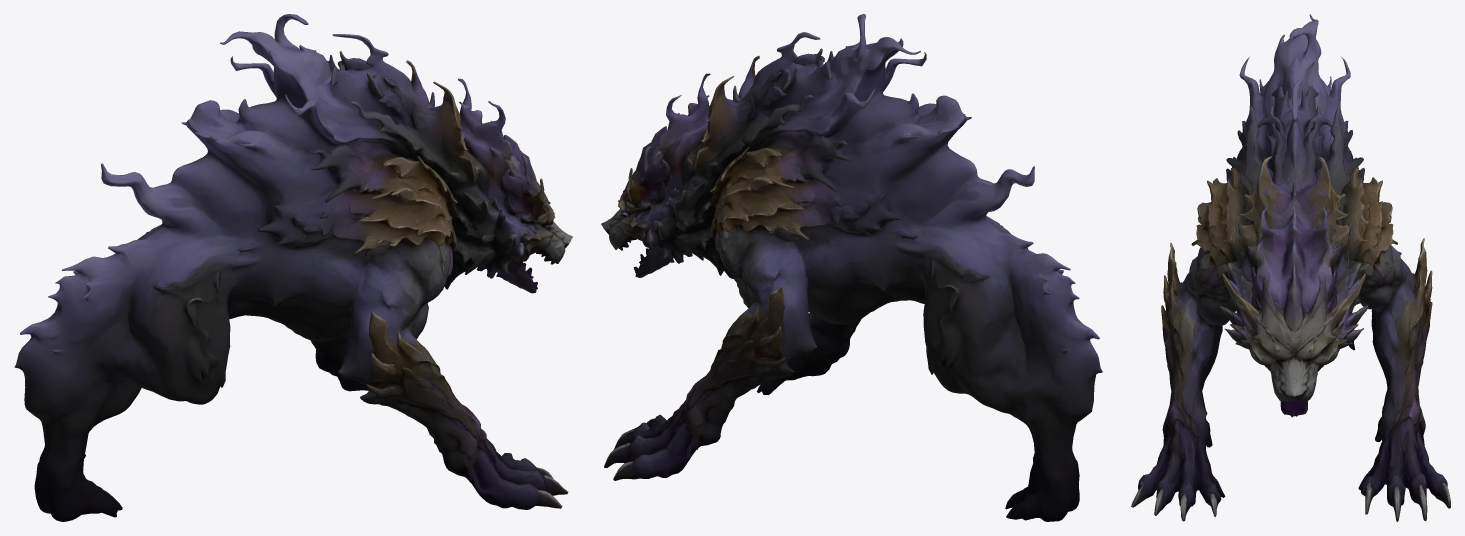
The model's file is abyssal-beast.glb.
The picture shows the model from 3 angles, left to right: view 1: azimuth 30°, elevation 25°; view 2: azimuth 150°, elevation 25°; view 3: azimuth 270°, elevation 25°; orthographic projection. The views are drawn at different scales.
Visible parts, largest first — view 1: tripo_node_7bd28b14-0793-47cf-8b88-85d4edf8d773; view 2: tripo_node_7bd28b14-0793-47cf-8b88-85d4edf8d773; view 3: tripo_node_7bd28b14-0793-47cf-8b88-85d4edf8d773.
Part boxes in pixels (box(x1,y1,x2,y2)): tripo_node_7bd28b14-0793-47cf-8b88-85d4edf8d773: box(14, 14, 572, 521); tripo_node_7bd28b14-0793-47cf-8b88-85d4edf8d773: box(601, 14, 1102, 521); tripo_node_7bd28b14-0793-47cf-8b88-85d4edf8d773: box(1131, 14, 1450, 521).
Bounding box in the file's own units: 1 × 0.8311 × 0.5874.
Materials: 1 (1 with a texture image).
